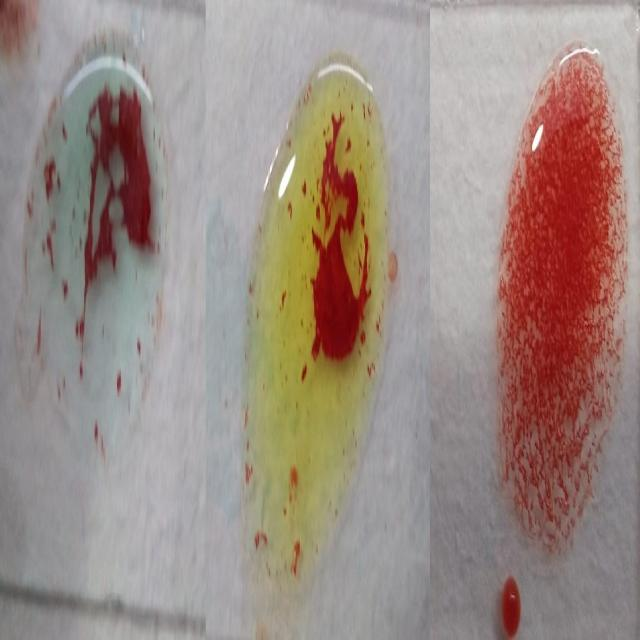A: (27, 45, 163, 468)
B: (243, 62, 386, 574)
D: (496, 60, 628, 548)
